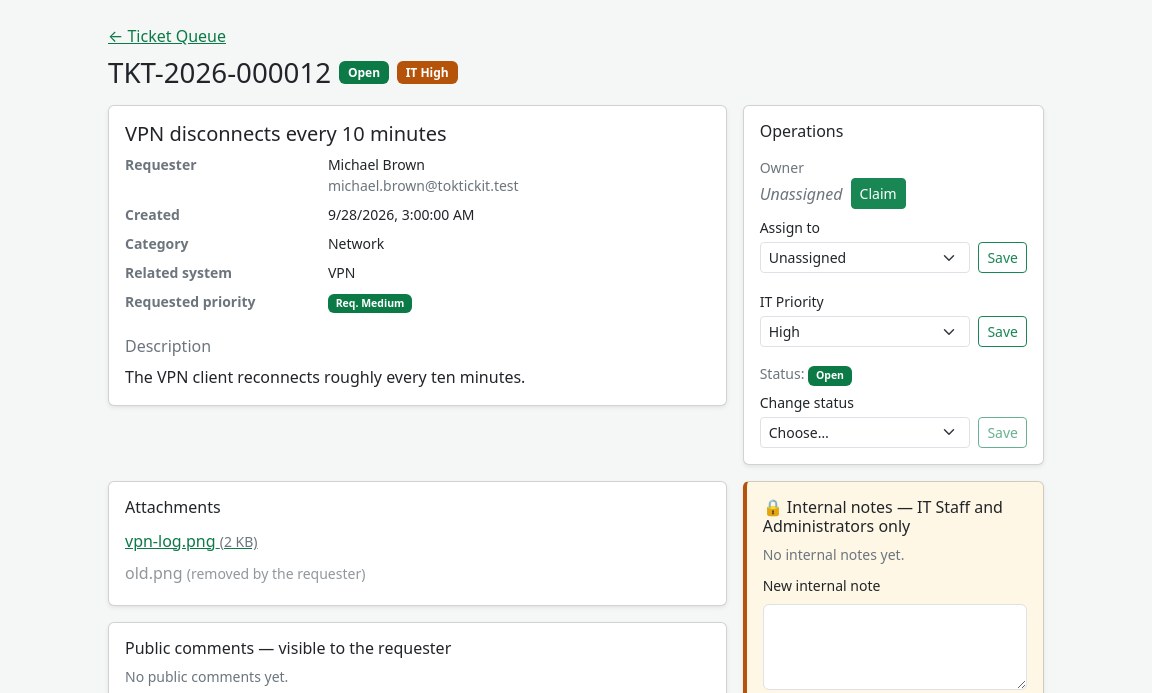
UI-18 claim › Claim sends my id and then shows me as the owner
expect the text "Unassigned" is shown: met, box [760,182,843,206]
Step 1. Click the button "Claim" → [878, 194], box [851,178,906,209]
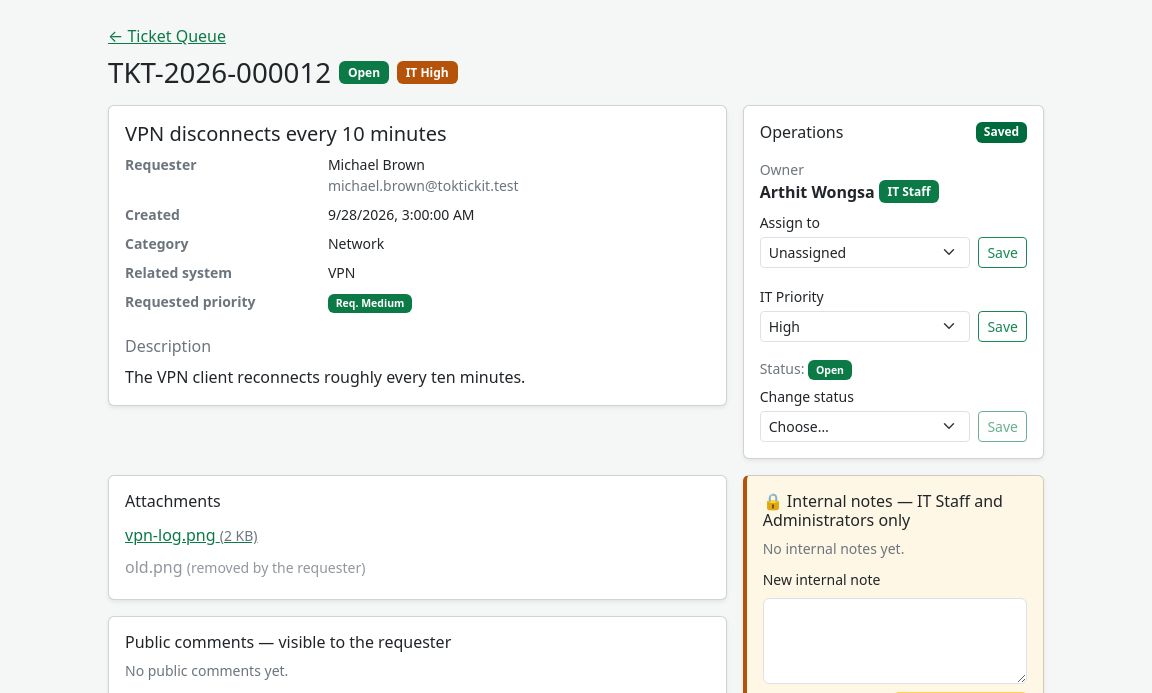
expect the text "Arthit Wongsa" is shown: met, box [760,180,875,204]
expect the button "Claim" is gone: met
expect the text "Saved" is shown: met, box [976,122,1027,143]
